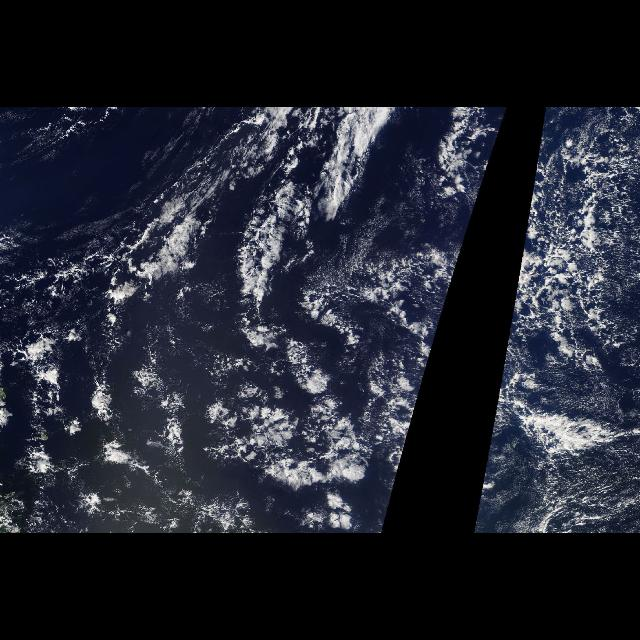Flower: (19, 331, 372, 534)
